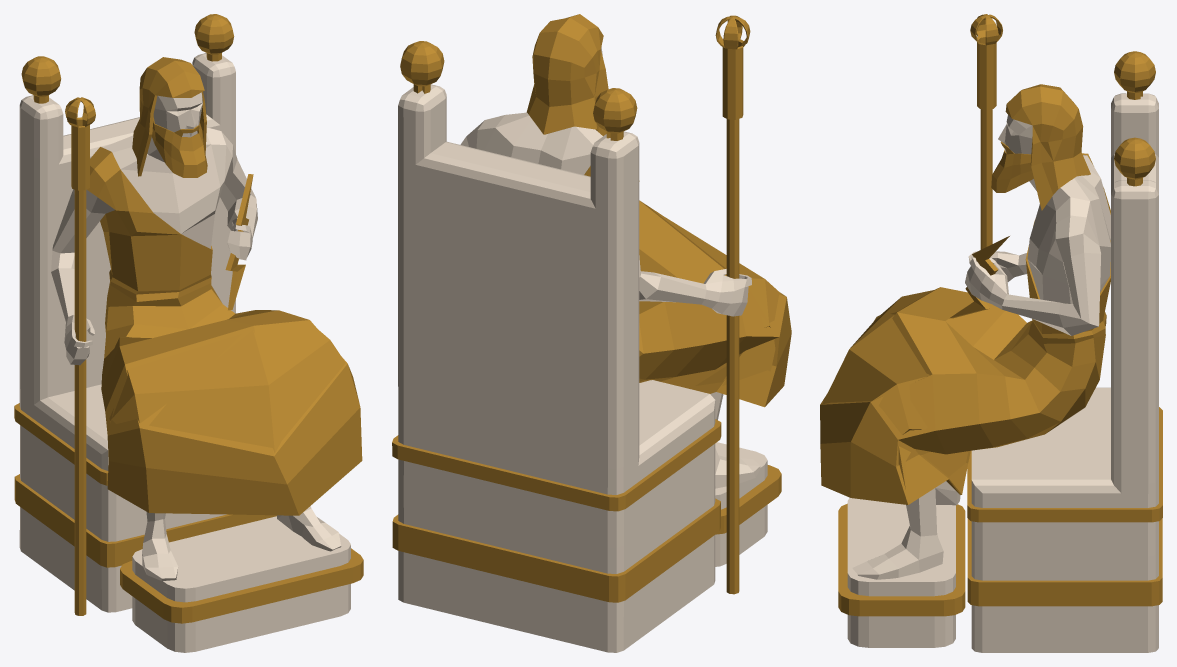
File: Zeus.fbx
The picture shows the model from 3 angles, left to right: view 1: azimuth 30°, elevation 25°; view 2: azimuth 150°, elevation 25°; view 3: azimuth 270°, elevation 25°; orthographic projection. The views are drawn at different scales.
Visible parts, largest first — view 1: Zeus; view 2: Zeus; view 3: Zeus.
Part boxes in pixels (bbox=[...]): Zeus: bbox=[14, 14, 363, 652]; Zeus: bbox=[392, 14, 791, 652]; Zeus: bbox=[820, 14, 1162, 652].
Size of the model in its own units: 349 by 690 by 407.
